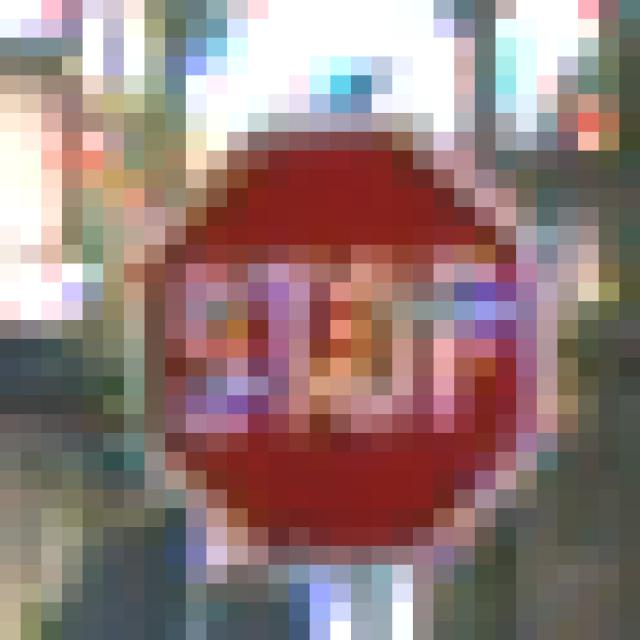STOP: (125, 95, 538, 547)
